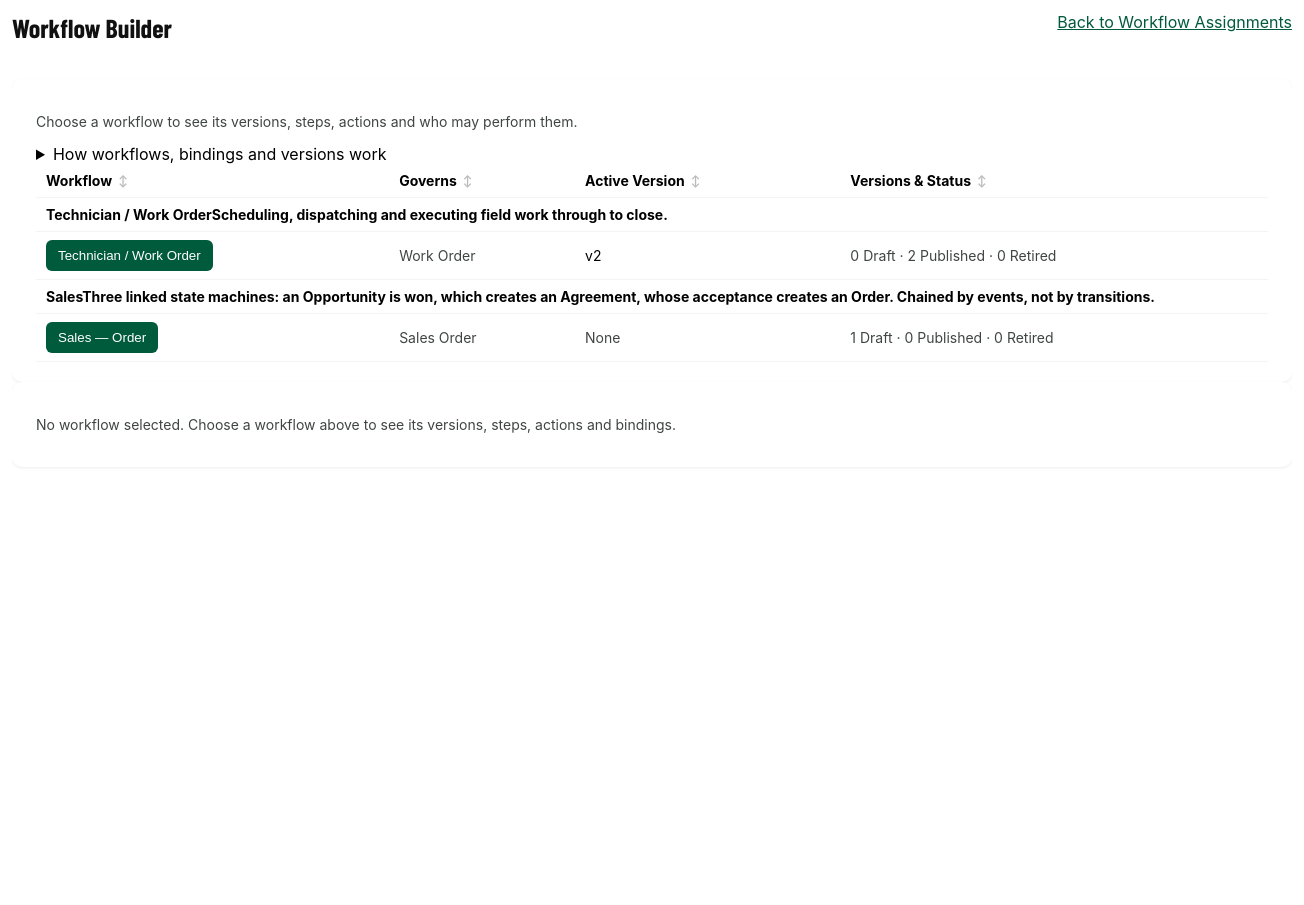
Test: Administration > Workflows › offers Retire and Make ACTIVE only for a non-active published version; the refusal is verbatim
Click the button "Technician / Work Order" at (129,256), box [46, 240, 213, 271]
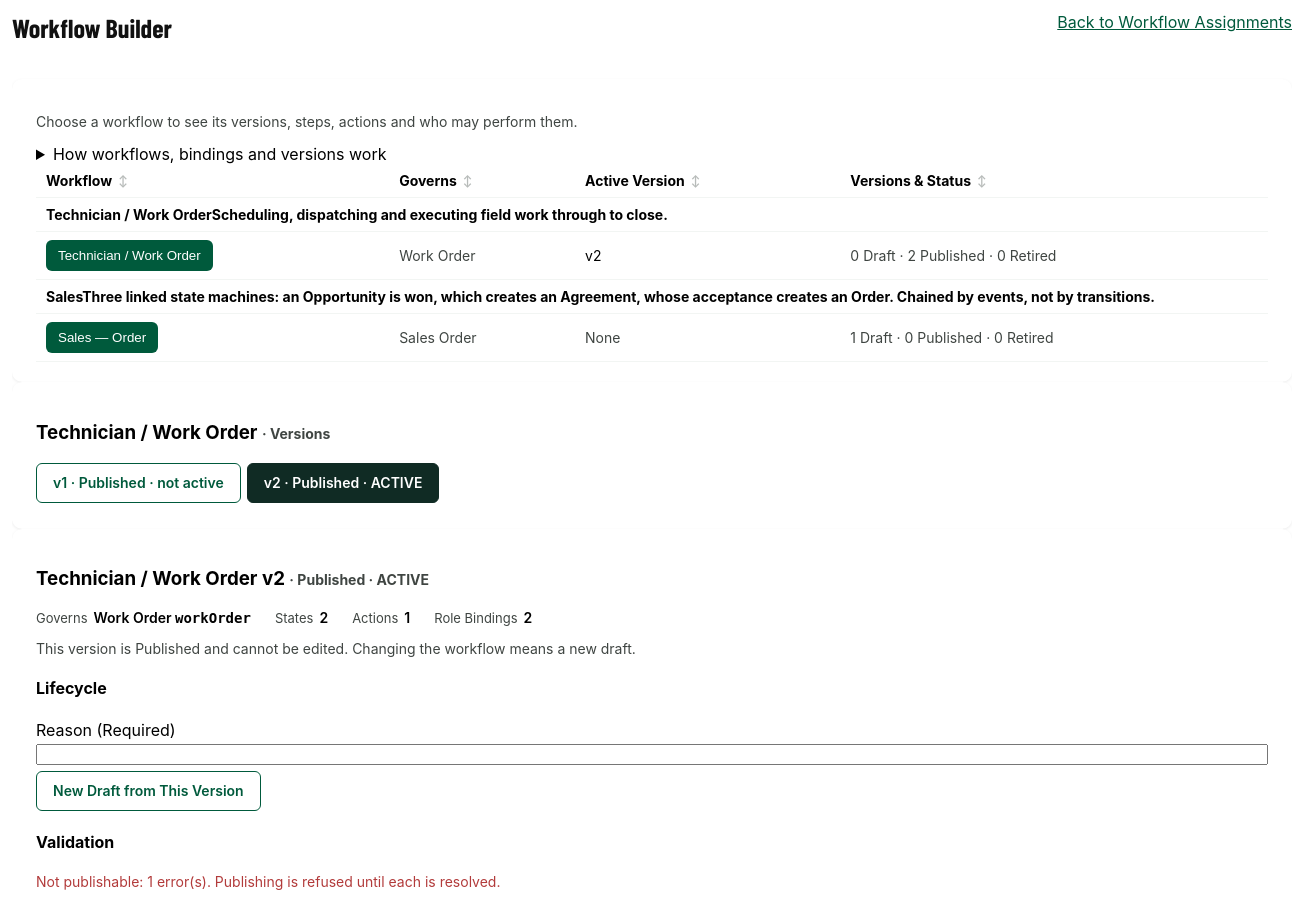
Click the button "v1 · Published · not active" at (138,483), box [36, 463, 241, 503]
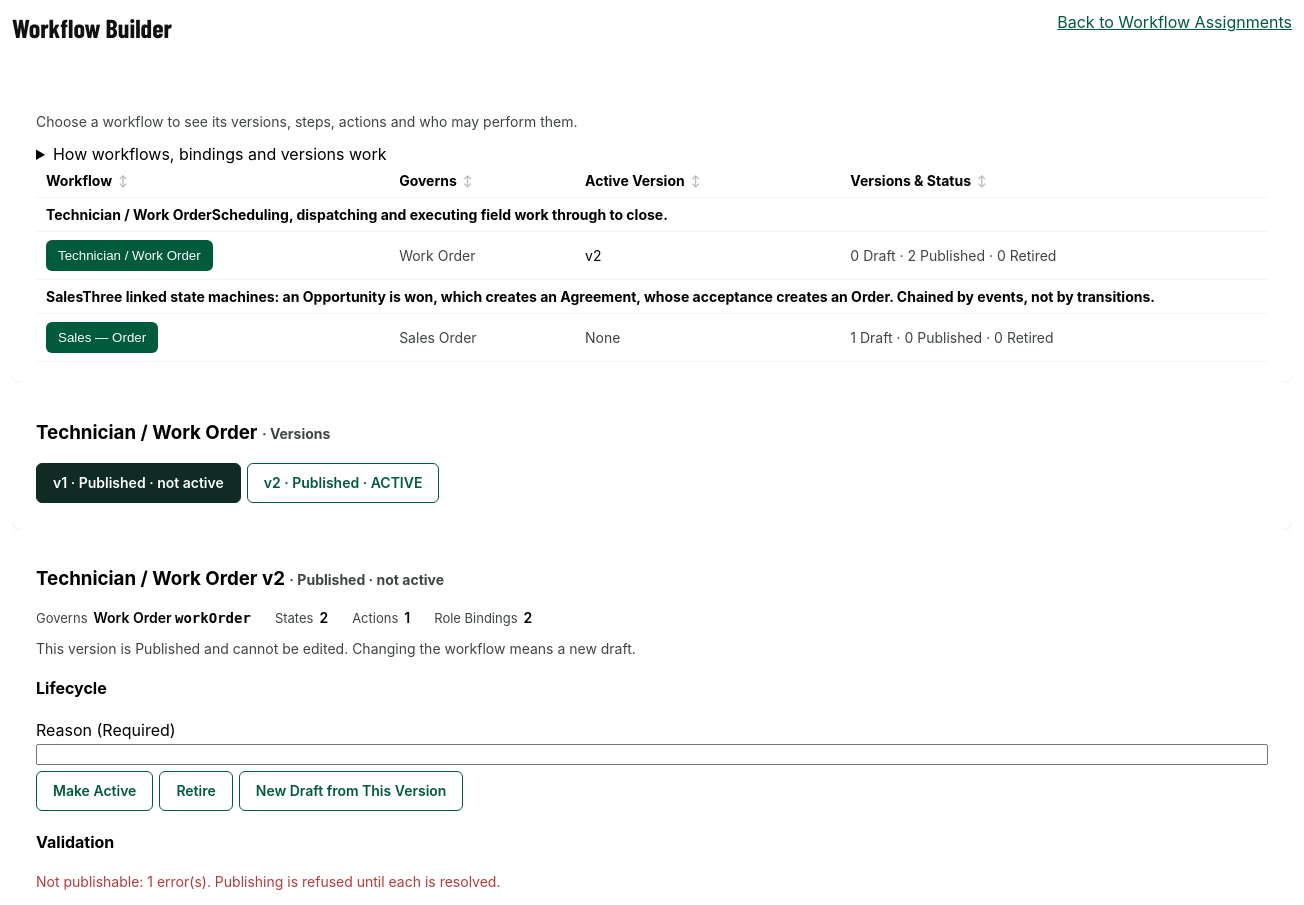
Expected: the button with test id "activate" is shown, [36, 771, 153, 811]
Type "clean up" into the field named "Reason for the workflow change" at (652,754), box [36, 744, 1268, 765]
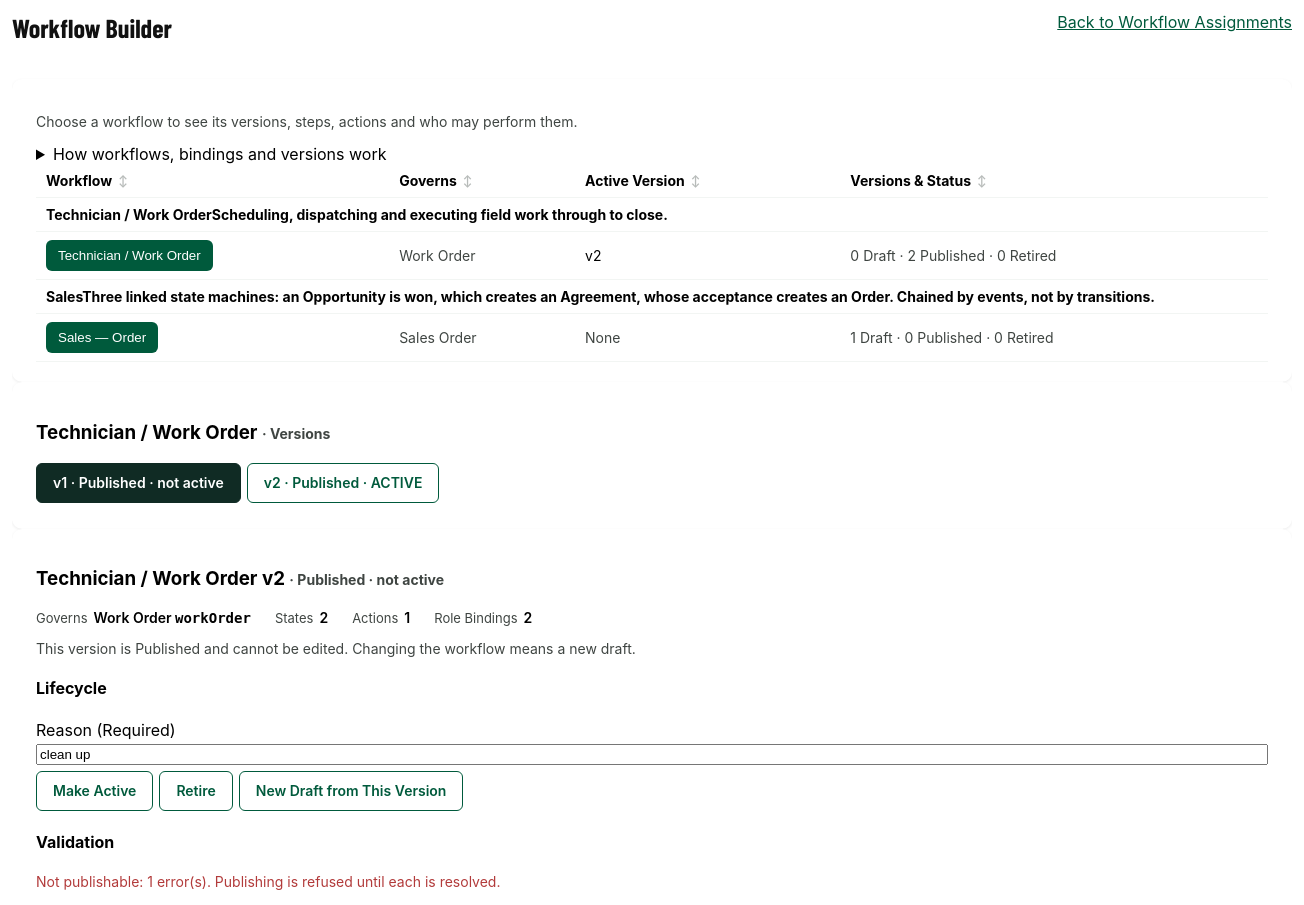
Click the button with test id "retire" at (196,791), box [159, 771, 233, 811]
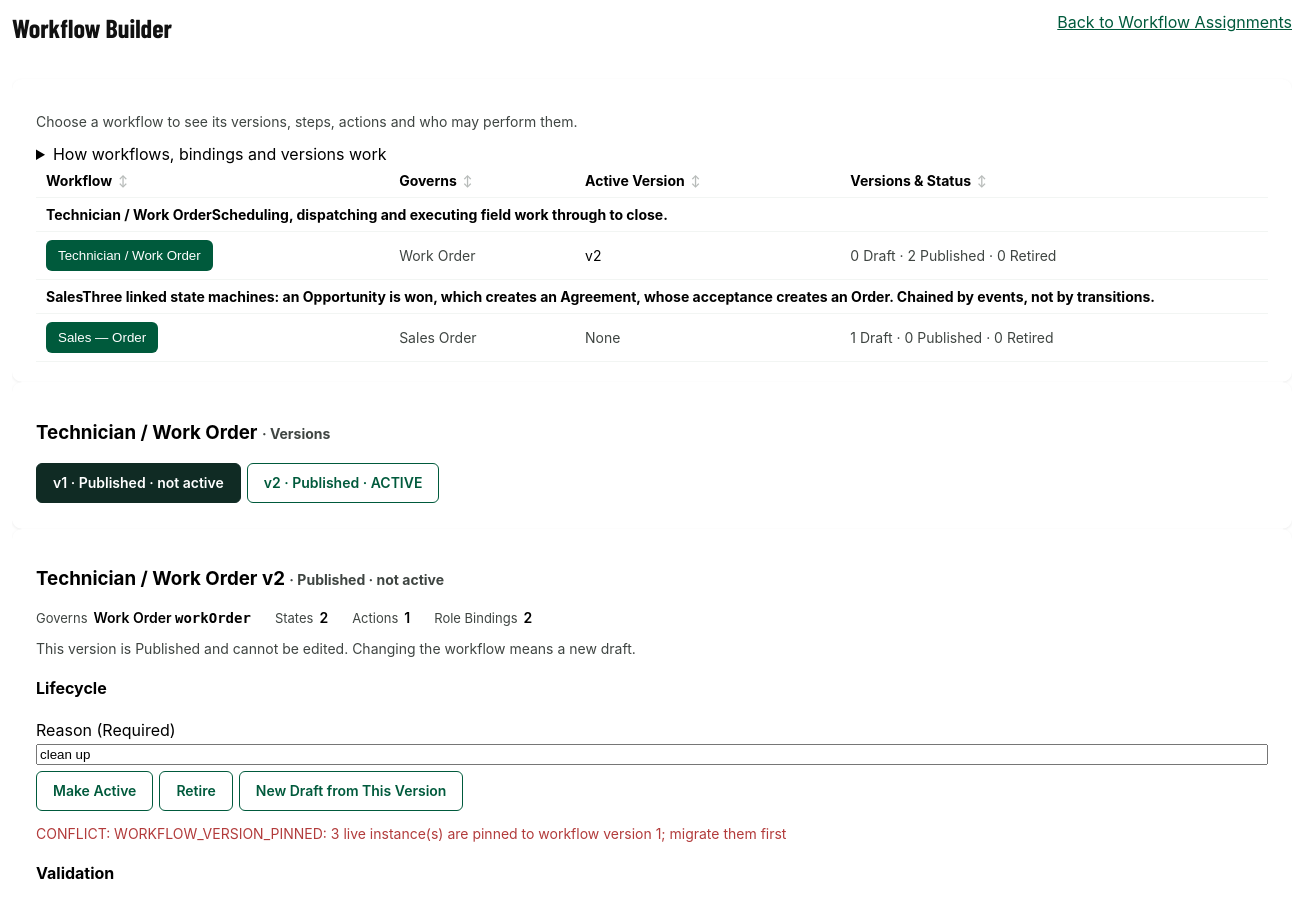
Expected: the message with test id "refused" shows "CONFLICT: WORKFLOW_VERSION_PINNED: 3 live instance(s) are pinned to workflow version 1; migrate them first", [36, 825, 786, 842]
